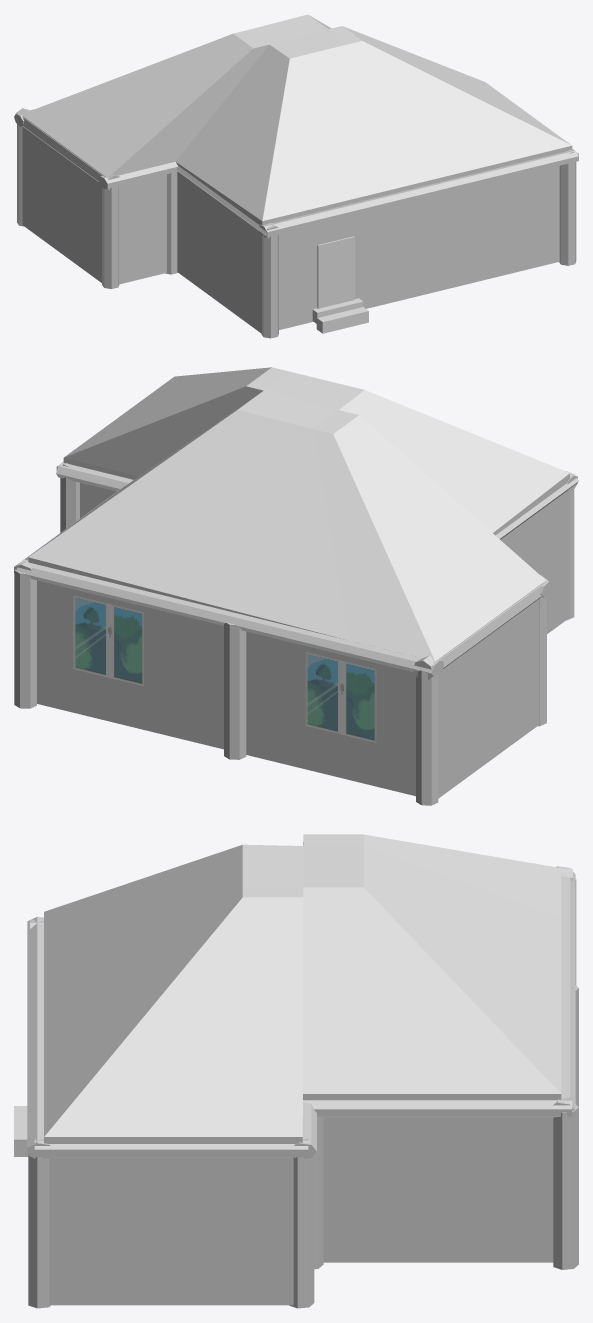
The model's file is house1.fbx.
The picture shows the model from 3 angles, top to bottom: view 1: azimuth 30°, elevation 25°; view 2: azimuth 150°, elevation 25°; view 3: azimuth 270°, elevation 25°; orthographic projection. The views are drawn at different scales.
Parts seen in each view (by area): view 1: Cube.001, Cube.002, Cylinder.002, Cube.003, Cylinder.001, Cylinder, Cylinder.009, Cylinder.008, Cylinder.012, Cube.005, Cylinder.011, Cylinder.006 (+2 smaller); view 2: Cube.002, Cube.001, Cylinder.005, Plane, Plane.001, Cylinder.004, Cylinder.003, Cylinder.010, Cylinder.012, Cylinder.016, Cylinder.009, Cylinder.015 (+2 smaller); view 3: Cube.001, Cube.002, Cylinder.007, Cylinder.004, Cylinder.002, Cylinder.014, Cylinder.005, Cylinder.001, Cylinder.015, Cylinder.013, Cylinder.016, Cube.005.
Part boxes in pixels (bbox=[...]): Cube.001: bbox=[108, 26, 572, 333]; Cube.002: bbox=[21, 14, 331, 284]; Cylinder.002: bbox=[259, 149, 578, 237]; Cube.003: bbox=[317, 236, 354, 308]; Cylinder.001: bbox=[559, 162, 576, 265]; Cylinder: bbox=[261, 234, 278, 338]; Cylinder.009: bbox=[102, 186, 119, 288]; Cylinder.008: bbox=[165, 172, 177, 274]; Cylinder.012: bbox=[16, 108, 120, 190]; Cube.005: bbox=[316, 307, 368, 333]; Cylinder.011: bbox=[98, 161, 177, 189]; Cylinder.006: bbox=[176, 166, 278, 237]; Cube.002: bbox=[28, 386, 545, 798]; Cube.001: bbox=[63, 367, 569, 633]; Cylinder.005: bbox=[16, 559, 443, 677]; Plane: bbox=[305, 652, 376, 742]; Plane.001: bbox=[73, 595, 143, 686]; Cylinder.004: bbox=[14, 569, 36, 708]; Cylinder.003: bbox=[224, 622, 246, 759]; Cylinder.010: bbox=[416, 669, 438, 805]; Cylinder.012: bbox=[413, 575, 547, 680]; Cylinder.016: bbox=[56, 461, 133, 491]; Cylinder.009: bbox=[538, 596, 546, 726]; Cylinder.015: bbox=[60, 477, 79, 532]; Cube.001: bbox=[44, 842, 303, 1305]; Cube.002: bbox=[303, 834, 561, 1262]; Cylinder.007: bbox=[303, 1097, 572, 1117]; Cylinder.004: bbox=[553, 1104, 578, 1269]; Cylinder.002: bbox=[27, 916, 49, 1158]; Cylinder.014: bbox=[34, 1138, 308, 1157]; Cylinder.005: bbox=[553, 866, 575, 1117]; Cylinder.001: bbox=[28, 1156, 50, 1308]; Cylinder.015: bbox=[289, 1155, 314, 1308]; Cylinder.013: bbox=[314, 1117, 323, 1269]; Cylinder.016: bbox=[294, 1102, 316, 1158]; Cube.005: bbox=[14, 1106, 28, 1156].
Size of the model in its own units: 1541 by 799 by 1317.
